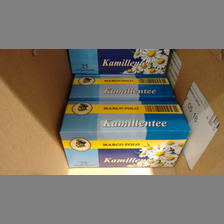tea: (56, 100, 192, 168), (69, 74, 176, 100), (68, 49, 169, 74)
